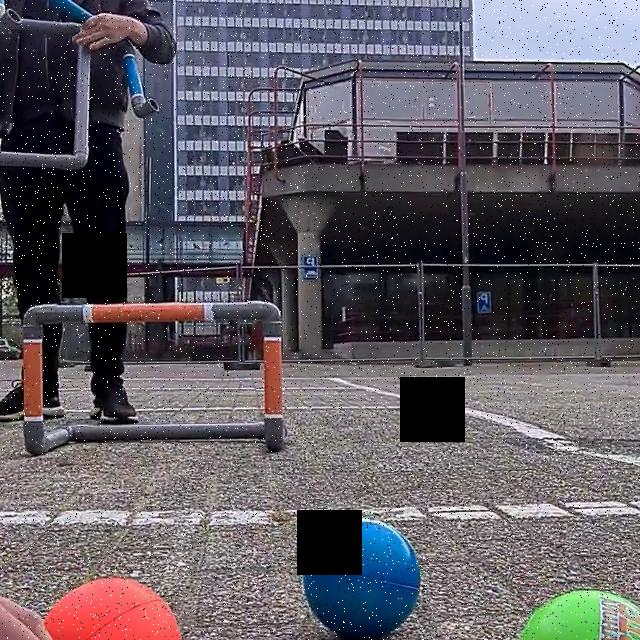ball: (304, 514, 425, 640)
